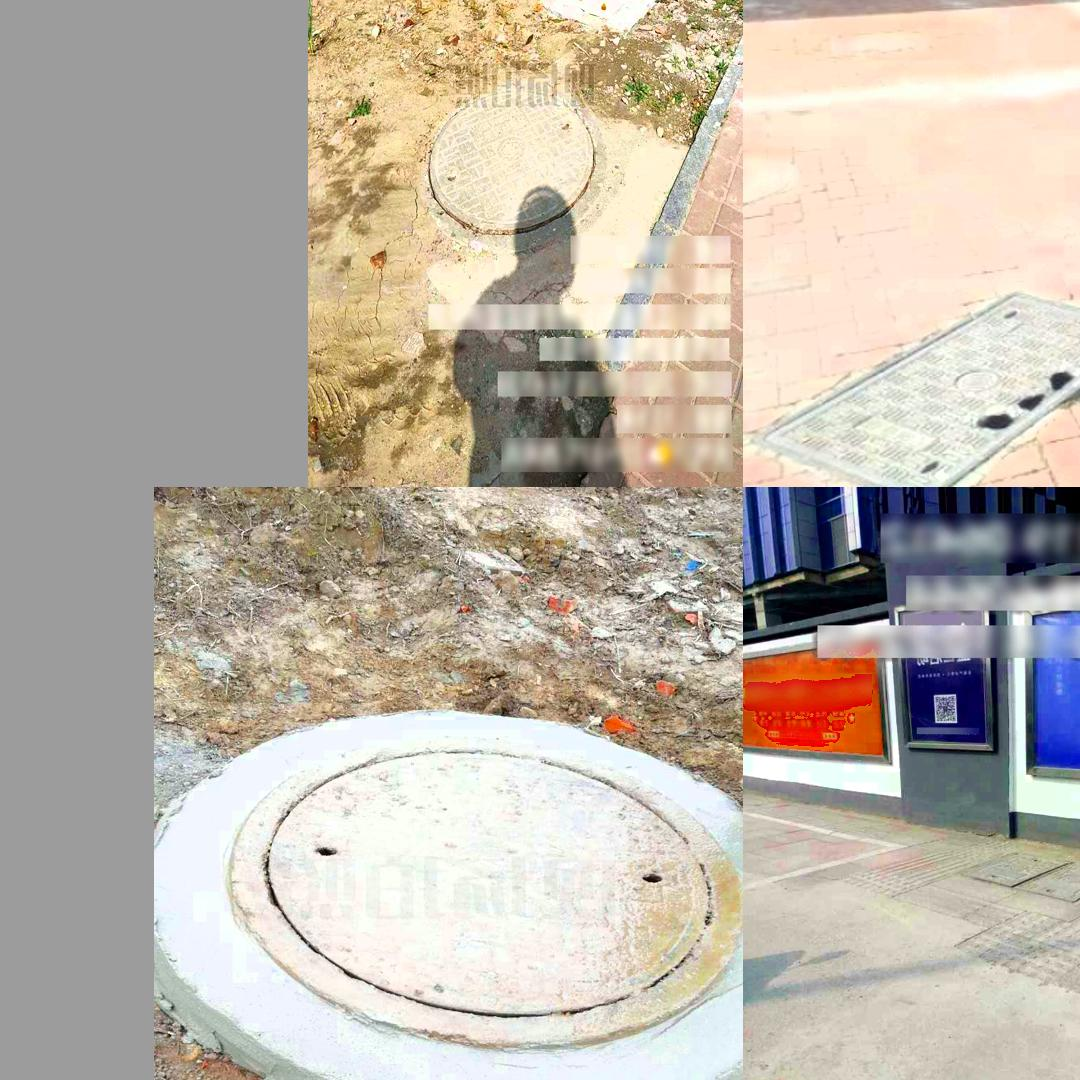broke: (753, 291, 1080, 487)
good: (231, 735, 742, 1049), (420, 86, 605, 250), (960, 850, 1080, 902)
